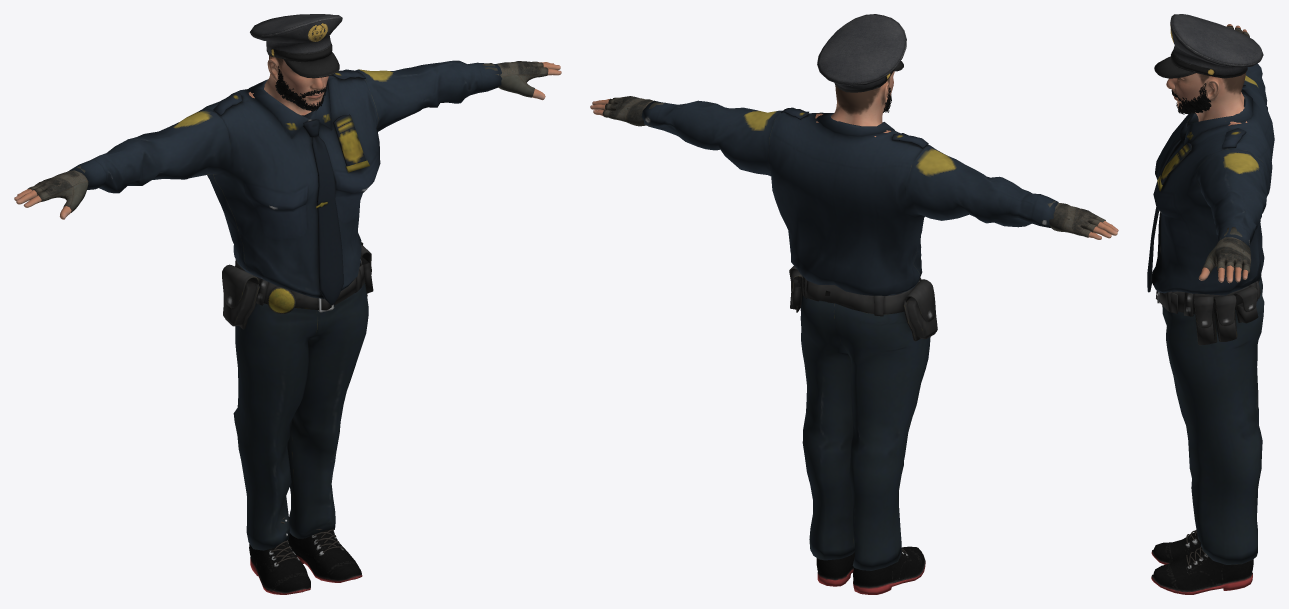
Rendered from police.fbx.
The picture shows the model from 3 angles, left to right: view 1: azimuth 30°, elevation 25°; view 2: azimuth 150°, elevation 25°; view 3: azimuth 270°, elevation 25°; orthographic projection. The views are drawn at different scales.
Visible parts, largest first — view 1: police; view 2: police; view 3: police.
Part boxes in pixels (x1,y1,x2,y2): police: [14, 14, 561, 594]; police: [590, 14, 1118, 594]; police: [1147, 14, 1274, 594].
Bounding box in the file's own units: 1865 × 1859 × 387.
Materials: 1 (1 with a texture image).
